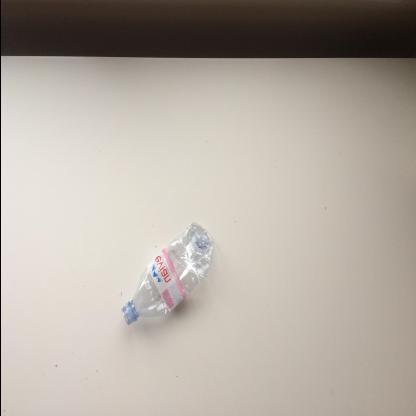plastik: (121, 223, 214, 327)
